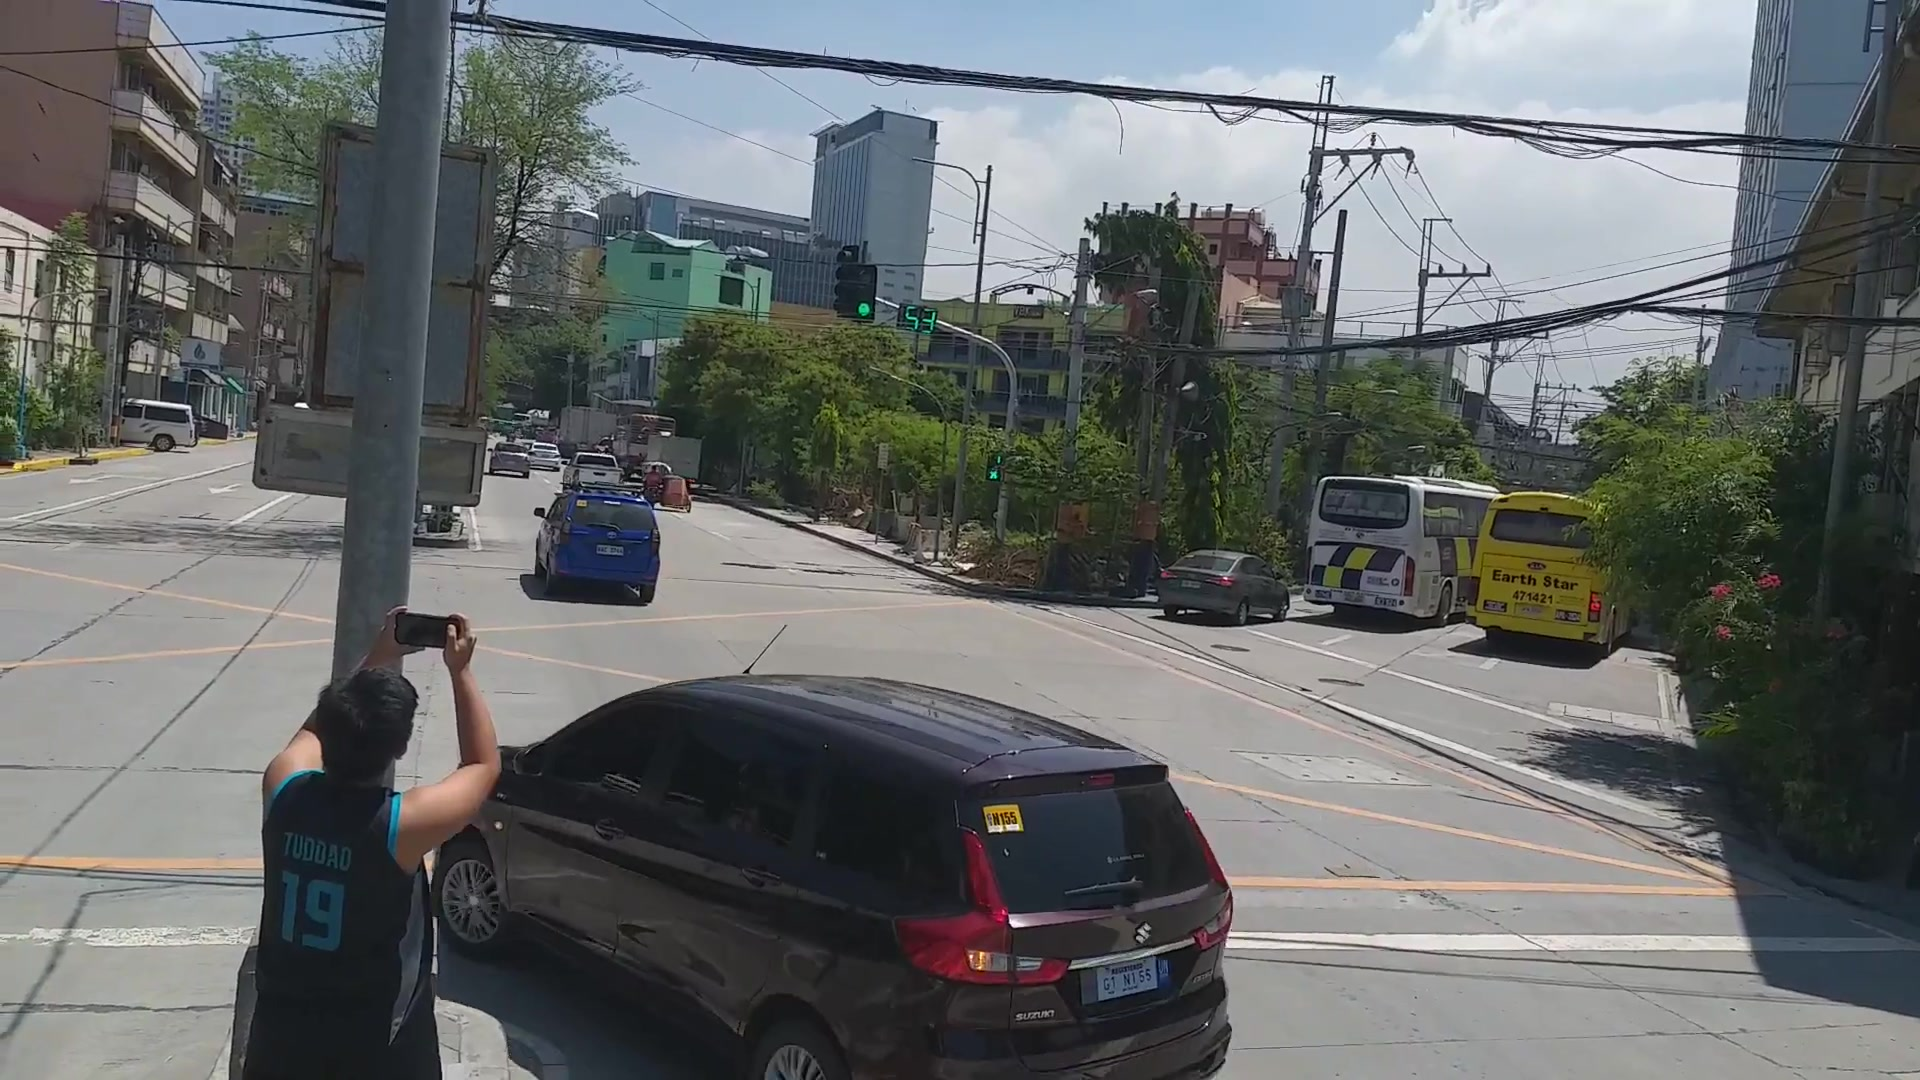car: (438, 598, 1245, 1080)
plate number: (1079, 951, 1179, 1008)
xar: (532, 490, 674, 608), (563, 448, 628, 498), (478, 438, 528, 480)
